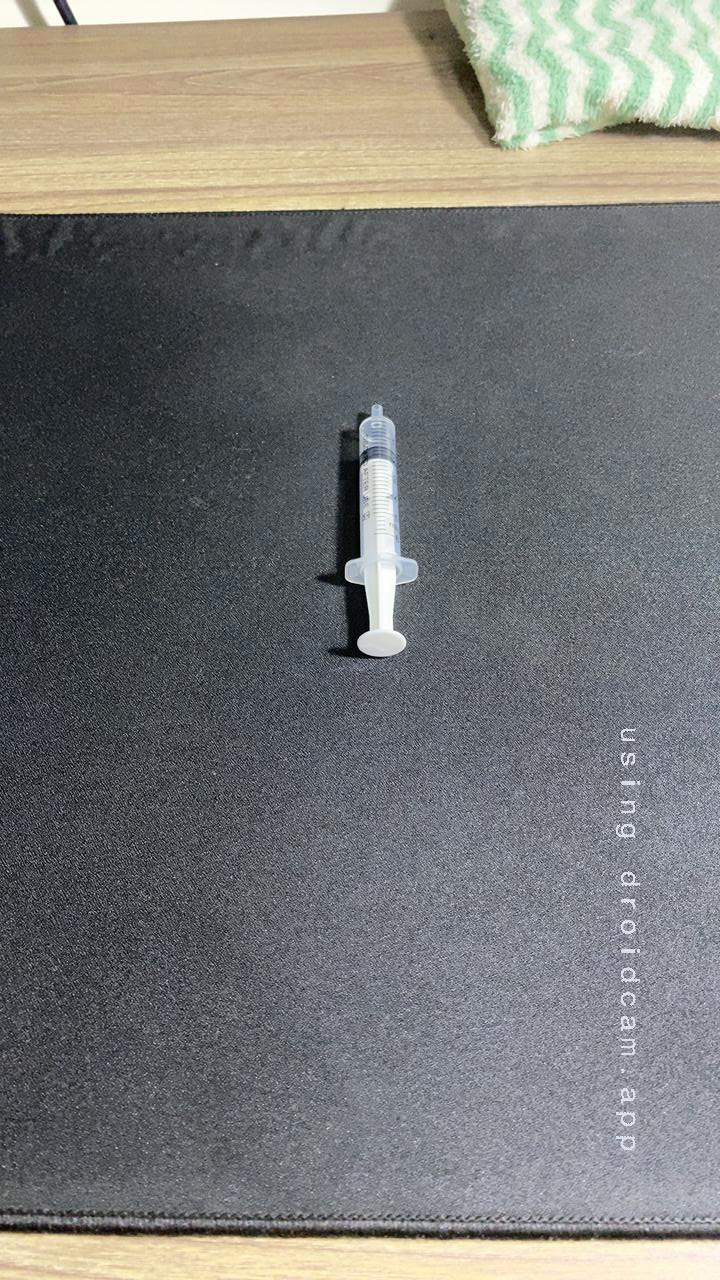syringe: (312, 394, 437, 667)
